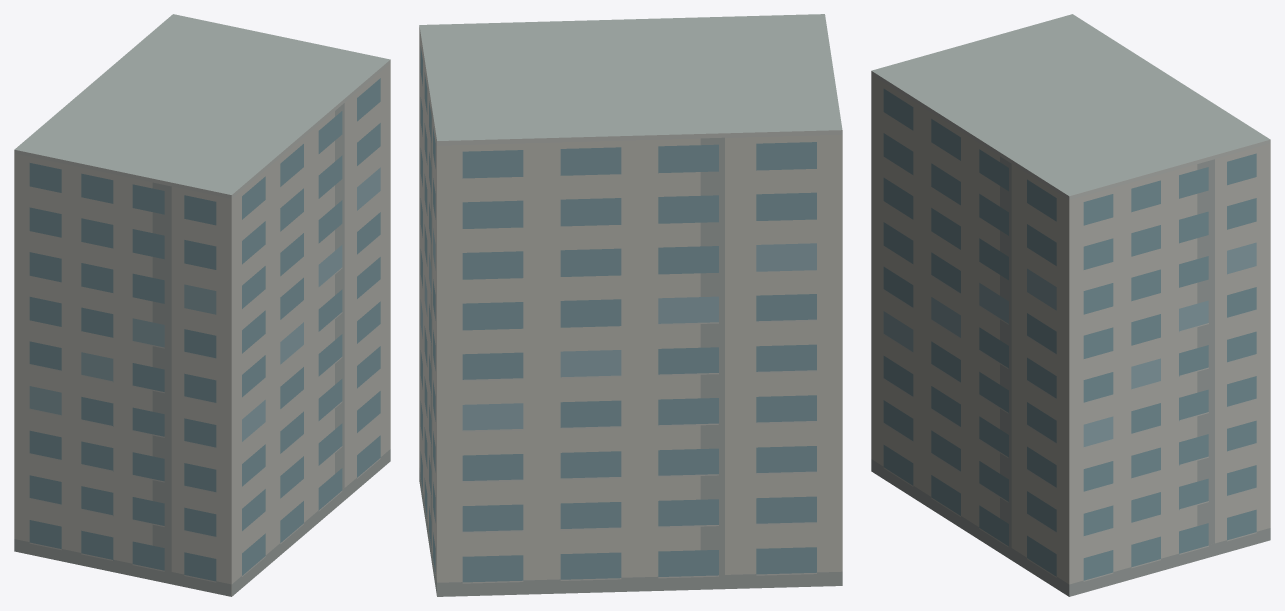
File: residential-7910f92f-4aef-4eae-ace1-6ac887c5a09d.glb
3 renders of one model, left to right at view 1: azimuth 30°, elevation 25°; view 2: azimuth 150°, elevation 25°; view 3: azimuth 270°, elevation 25°, orthographic. The views are drawn at different scales.
Parts seen in each view (by area): view 1: residential-7910f92f-4aef-4eae-ace1-6ac887c5a09d.tmp; view 2: residential-7910f92f-4aef-4eae-ace1-6ac887c5a09d.tmp; view 3: residential-7910f92f-4aef-4eae-ace1-6ac887c5a09d.tmp.
Part boxes in pixels (x1,y1,x2,y2): residential-7910f92f-4aef-4eae-ace1-6ac887c5a09d.tmp: (14,14,390,596); residential-7910f92f-4aef-4eae-ace1-6ac887c5a09d.tmp: (419,14,842,596); residential-7910f92f-4aef-4eae-ace1-6ac887c5a09d.tmp: (871,14,1270,596).
Size of the model in its own units: 24.4 by 25 by 22.6.
